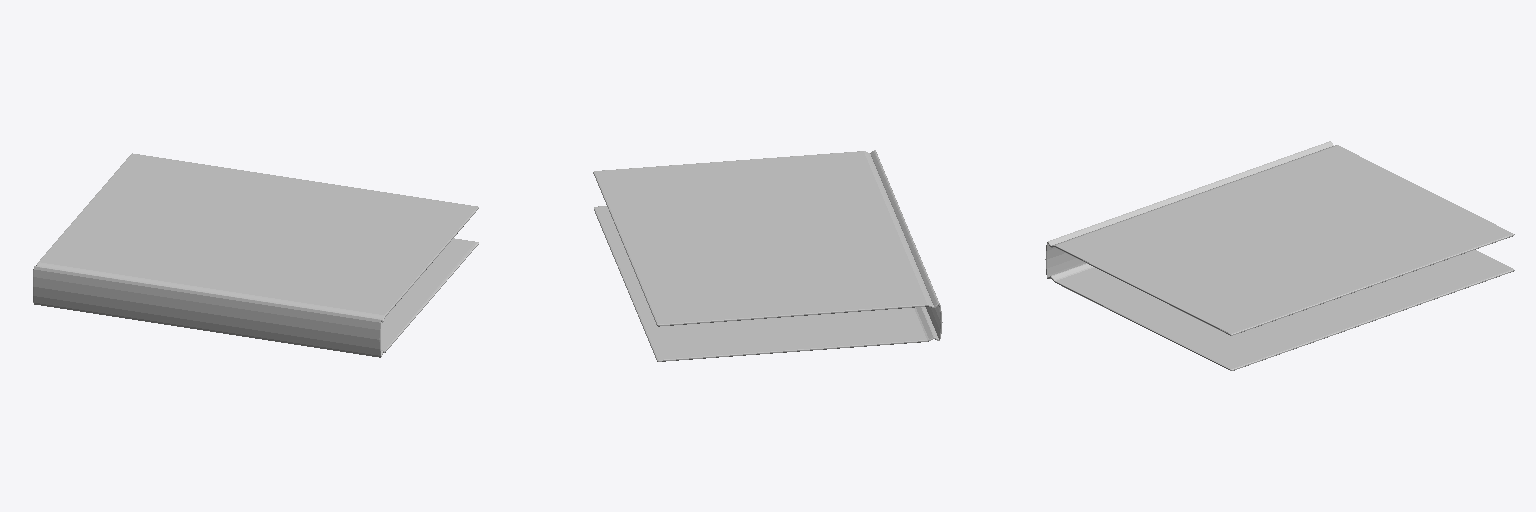
File: book-two-cover.obj
3 renders of one model, left to right at view 1: azimuth 30°, elevation 25°; view 2: azimuth 150°, elevation 25°; view 3: azimuth 270°, elevation 25°, orthographic.
Visible parts, largest first — view 1: books_and_mugs:Line004; view 2: books_and_mugs:Line004; view 3: books_and_mugs:Line004.
Part boxes in pixels (left/top/right/bottom): books_and_mugs:Line004: left=33, top=153, right=478, bottom=357; books_and_mugs:Line004: left=593, top=150, right=942, bottom=361; books_and_mugs:Line004: left=1045, top=141, right=1514, bottom=370.
Size of the model in its own units: 1.09 by 0.0997 by 1.12.